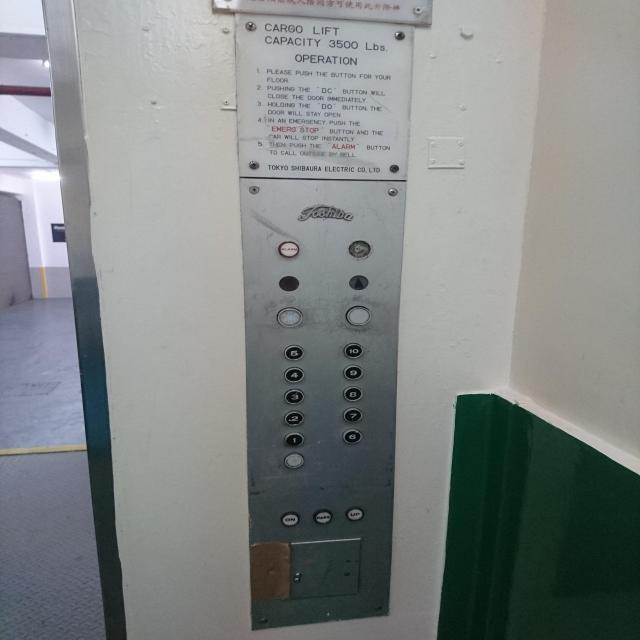1: (284, 431, 304, 447)
10: (344, 342, 363, 359)
2: (283, 409, 304, 426)
3: (284, 388, 303, 404)
4: (283, 367, 304, 382)
5: (283, 344, 304, 361)
6: (341, 427, 362, 444)
7: (342, 406, 362, 423)
8: (342, 384, 362, 402)
9: (343, 363, 362, 380)
DN: (280, 510, 300, 527)
UP: (346, 506, 364, 521)
empty: (345, 304, 372, 325), (278, 276, 300, 292), (284, 452, 304, 469)
open: (276, 306, 303, 327)
text: (277, 241, 300, 258)
text_blur: (348, 238, 372, 259)
text_pass: (312, 507, 331, 525)
up: (348, 274, 370, 290)
